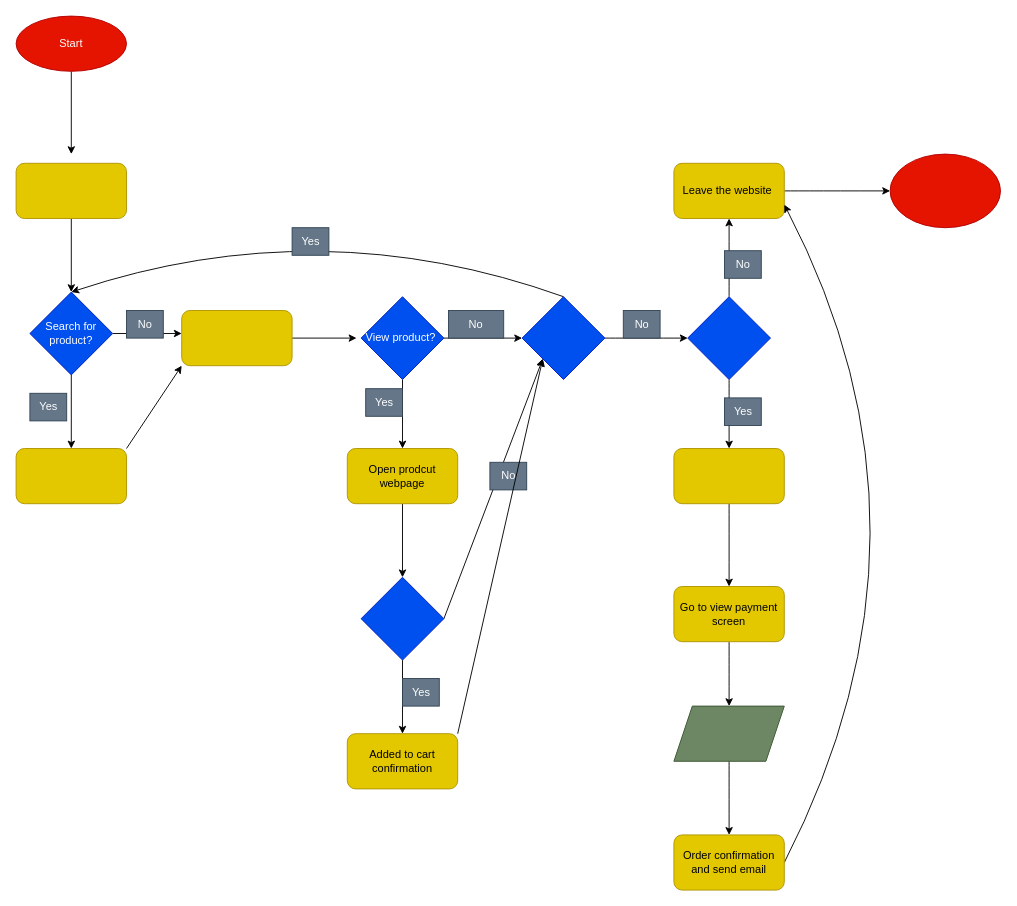
Image size: 1017x906. Some labels were removed from this diagram. The shapes that lost their labels are listed below. From the top down, each one's centre as x and y in pixels, then its label:
At (70,190): "User enters website".
At (944,190): "End".
At (236,338): "Look over products".
At (563,338): "Continue shopping?".
At (728,338): "Checkout?".
At (70,476): "Provide input to website of search".
At (728,476): "Go to view cart screen".
At (402,618): "Add to Cart?".
At (728,733): "Input payment information".
